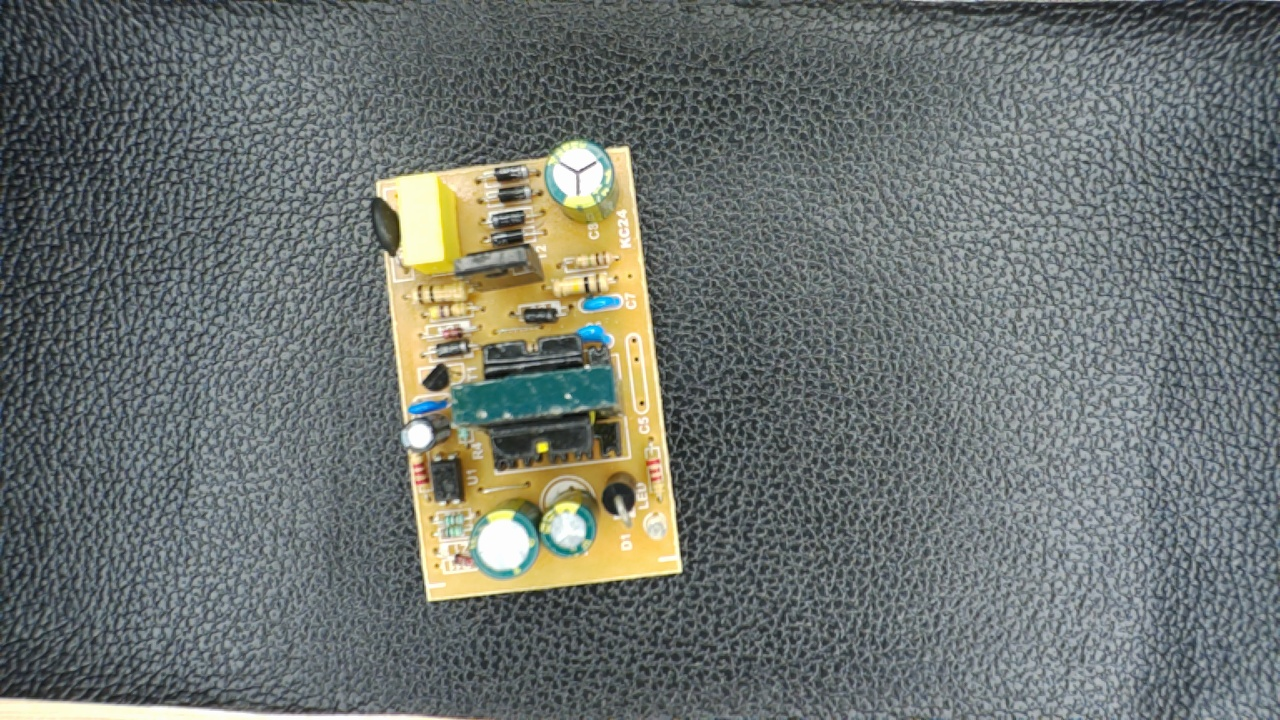fuse: (363, 194, 407, 263)
hv_capacitor: (539, 138, 620, 224)
optocoupler: (428, 452, 476, 510)
